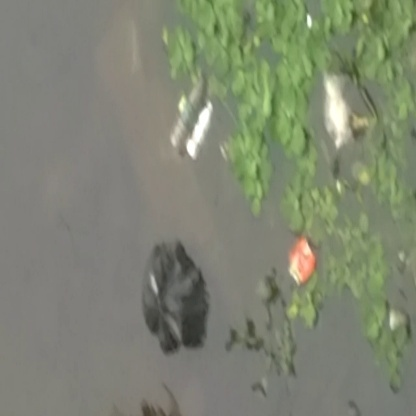plastic-bag: (140, 237, 211, 357)
